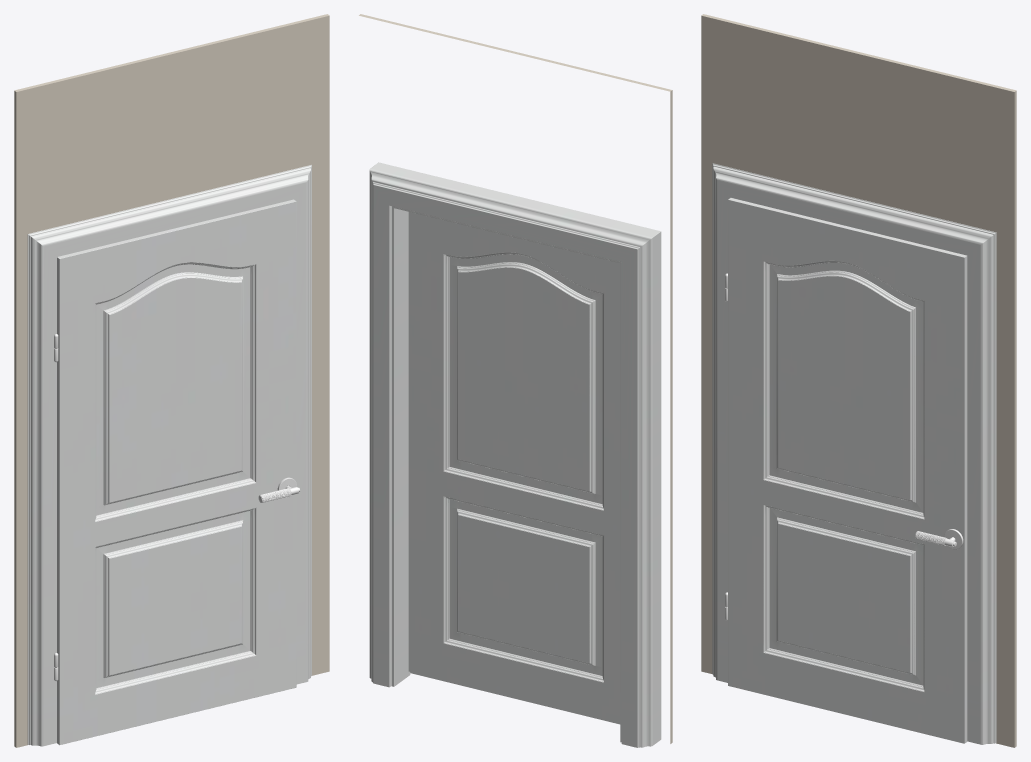
File: whitedoor.glb
3 renders of one model, left to right at view 1: azimuth 30°, elevation 25°; view 2: azimuth 150°, elevation 25°; view 3: azimuth 330°, elevation 25°, orthographic.
Visible parts, largest first — view 1: door; view 2: door; view 3: door.
Part boxes in pixels (<box>): door: <box>14,14,329,747</box>; door: <box>359,14,672,747</box>; door: <box>701,14,1016,747</box>.
Size of the model in its own units: 1.71 by 3.42 by 0.2898.
5 materials, 1 textured.
